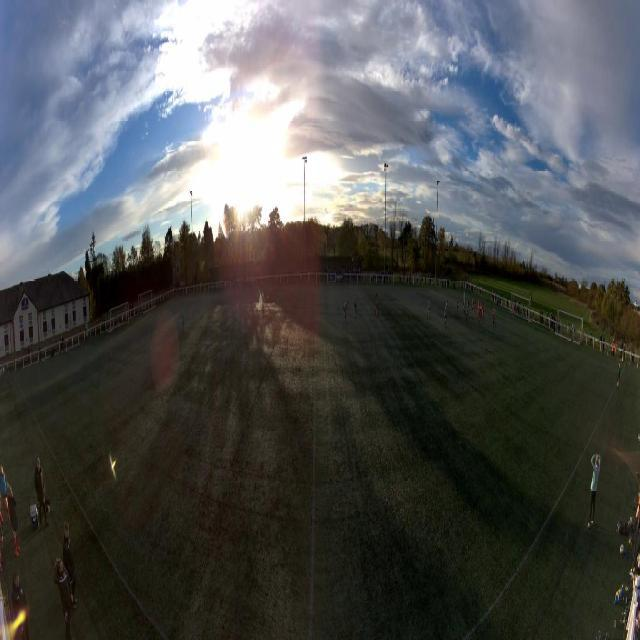ball: (469, 313, 470, 317)
player: (375, 293, 380, 317), (343, 300, 348, 320), (353, 295, 357, 317), (182, 310, 185, 332), (444, 305, 447, 327), (427, 297, 430, 317), (493, 309, 496, 328), (471, 299, 474, 318), (478, 306, 481, 325), (482, 301, 485, 319), (466, 301, 469, 319), (462, 297, 465, 313), (457, 297, 459, 316), (492, 305, 494, 324), (474, 297, 476, 314), (464, 298, 466, 315), (511, 303, 513, 319), (480, 299, 482, 315), (478, 299, 480, 314), (446, 300, 448, 315), (463, 294, 465, 306)
